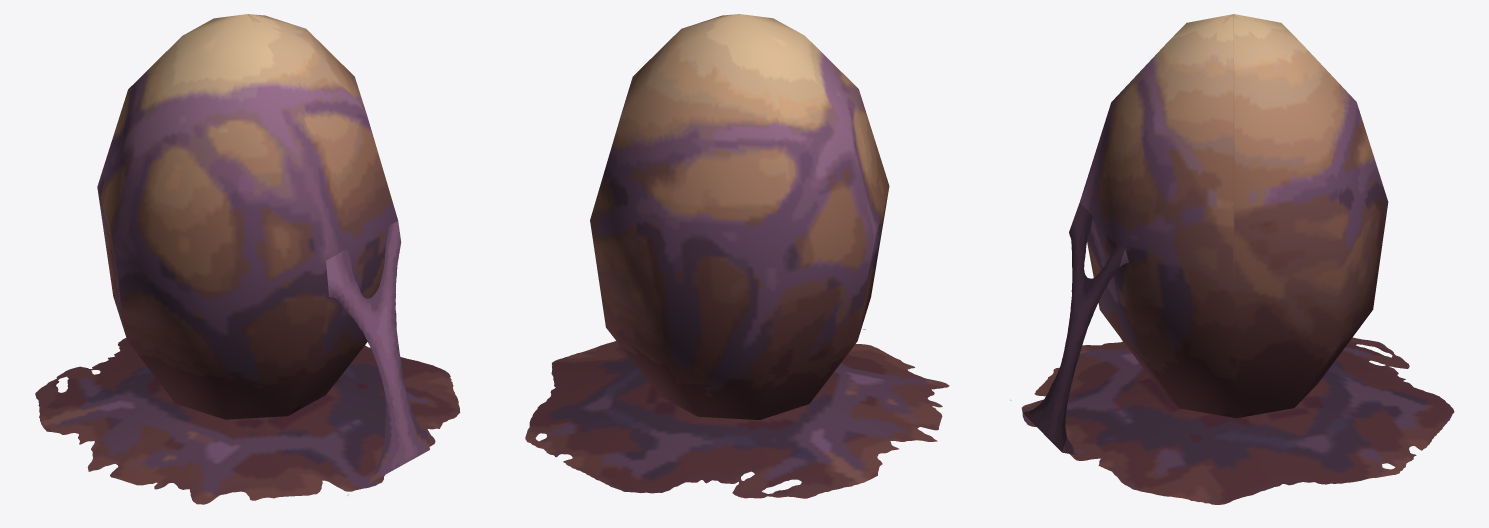
The model's file is desert_flyer_egg_04_91038159.glb.
The picture shows the model from 3 angles, left to right: view 1: azimuth 30°, elevation 25°; view 2: azimuth 150°, elevation 25°; view 3: azimuth 270°, elevation 25°; orthographic projection.
Size of the model in its own units: 1.39 by 1.29 by 1.39.
Materials: 1 (1 with a texture image).
